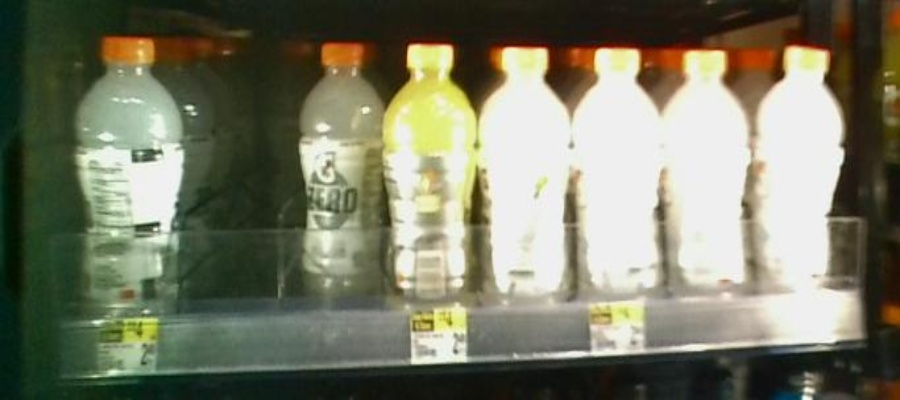bottle: (76, 37, 190, 337), (296, 34, 383, 328), (387, 42, 478, 320), (481, 46, 571, 320), (575, 49, 663, 311), (665, 50, 750, 314), (759, 47, 846, 298)
